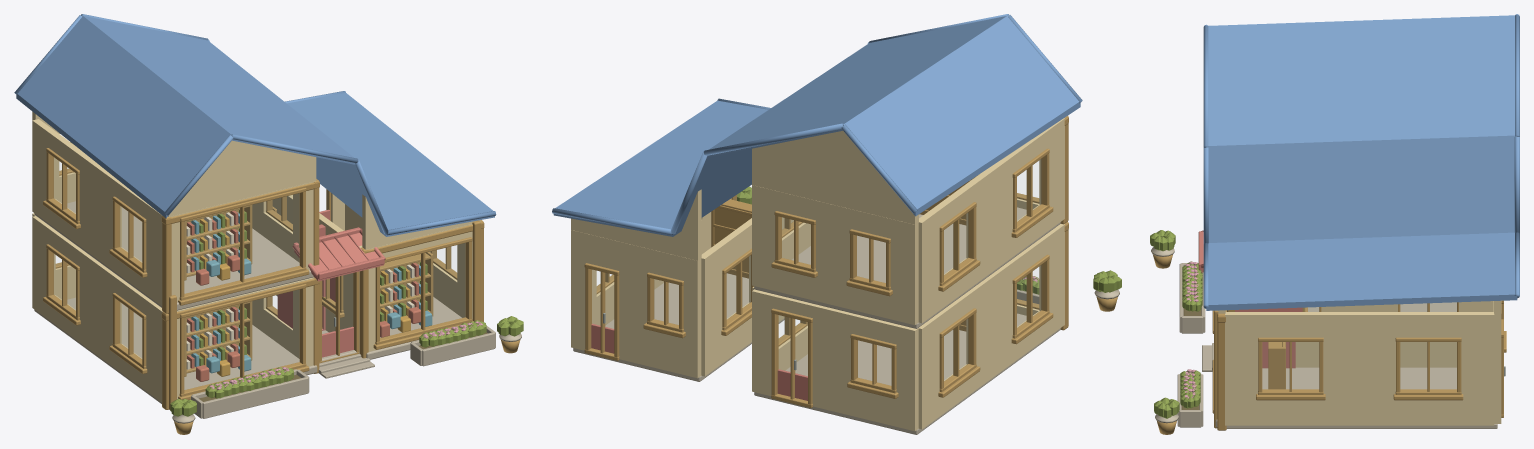
3 renders of one model, left to right at view 1: azimuth 30°, elevation 25°; view 2: azimuth 150°, elevation 25°; view 3: azimuth 270°, elevation 25°, orthographic. The views are drawn at different scales.
Parts seen in each view (by area): view 1: SM_17_02_曲面屋顶, SM_17_01_建筑墙体, SM_17_04_门窗楼梯, SM_17_06_景观设施, SM_17_05_景观植物, SM_17_03_木构回廊; view 2: SM_17_01_建筑墙体, SM_17_02_曲面屋顶, SM_17_04_门窗楼梯, SM_17_06_景观设施, SM_17_05_景观植物, SM_17_03_木构回廊; view 3: SM_17_02_曲面屋顶, SM_17_01_建筑墙体, SM_17_05_景观植物, SM_17_04_门窗楼梯, SM_17_03_木构回廊, SM_17_06_景观设施.
Boxes of the visible parts, x1=… form: SM_17_02_曲面屋顶: x1=14, y1=14, x2=496, y2=281; SM_17_01_建筑墙体: x1=32, y1=111, x2=480, y2=403; SM_17_04_门窗楼梯: x1=43, y1=142, x2=473, y2=399; SM_17_06_景观设施: x1=184, y1=205, x2=433, y2=381; SM_17_05_景观植物: x1=170, y1=316, x2=523, y2=434; SM_17_03_木构回廊: x1=161, y1=179, x2=484, y2=409; SM_17_01_建筑墙体: x1=571, y1=118, x2=1064, y2=434; SM_17_02_曲面屋顶: x1=552, y1=14, x2=1082, y2=236; SM_17_04_门窗楼梯: x1=584, y1=148, x2=1053, y2=407; SM_17_06_景观设施: x1=711, y1=175, x2=977, y2=331; SM_17_05_景观植物: x1=737, y1=186, x2=1121, y2=311; SM_17_03_木构回廊: x1=1060, y1=116, x2=1068, y2=330; SM_17_02_曲面屋顶: x1=1198, y1=14, x2=1519, y2=310; SM_17_01_建筑墙体: x1=1215, y1=300, x2=1501, y2=428; SM_17_05_景观植物: x1=1150, y1=230, x2=1205, y2=434; SM_17_04_门窗楼梯: x1=1202, y1=300, x2=1506, y2=417; SM_17_03_木构回廊: x1=1214, y1=310, x2=1234, y2=430; SM_17_06_景观设施: x1=1268, y1=342, x2=1285, y2=389.
Bounding box in the file's own units: 10.72 × 8.02 × 9.4.
